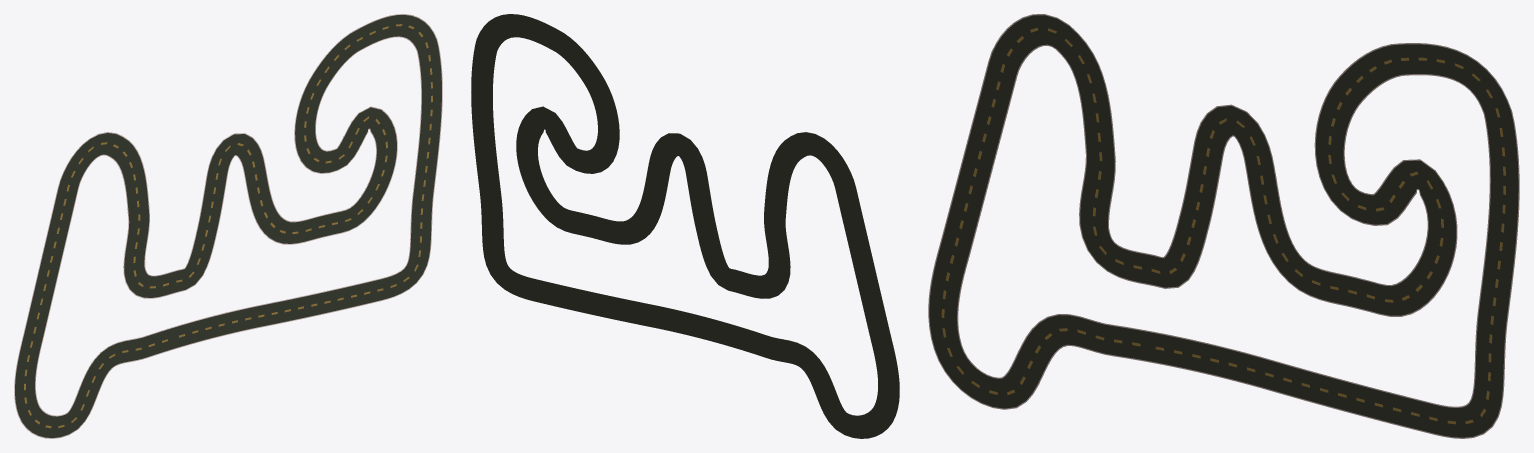
File: track.obj
The picture shows the model from 3 angles, left to right: view 1: azimuth 30°, elevation 25°; view 2: azimuth 150°, elevation 25°; view 3: azimuth 330°, elevation 25°; orthographic projection. The views are drawn at different scales.
Bounding box in the file's own units: 21.06 × 16.07 × 0.002.
